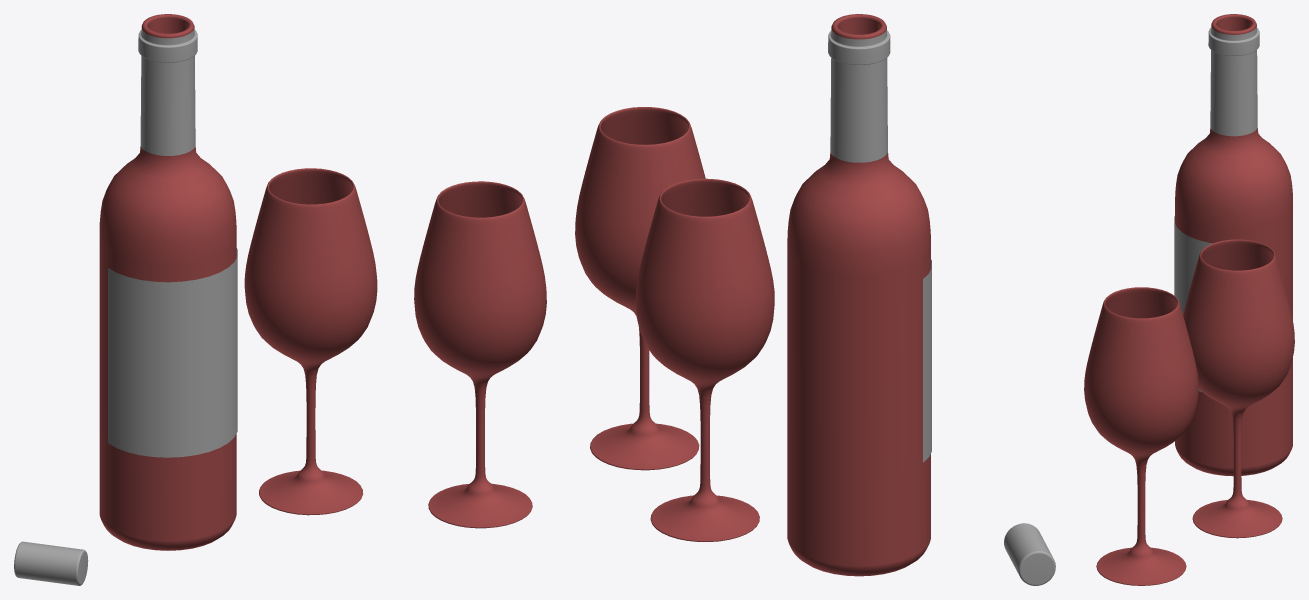
File: Wine_4.fbx
3 renders of one model, left to right at view 1: azimuth 30°, elevation 25°; view 2: azimuth 150°, elevation 25°; view 3: azimuth 270°, elevation 25°, orthographic. The views are drawn at different scales.
Parts seen in each view (by area): view 1: Glass2, Wineglass:F; view 2: Glass2, Wineglass:F; view 3: Glass2, Wineglass:F.
Part boxes in pixels (x1,y1,x2,y2): Glass2: (99,14,546,550); Wineglass:F: (14,25,237,585); Glass2: (575,14,930,576); Wineglass:F: (828,26,1055,585); Glass2: (1084,14,1294,585); Wineglass:F: (1174,24,1259,391).
Size of the model in its own units: 9.46 by 9.4 by 4.12.
